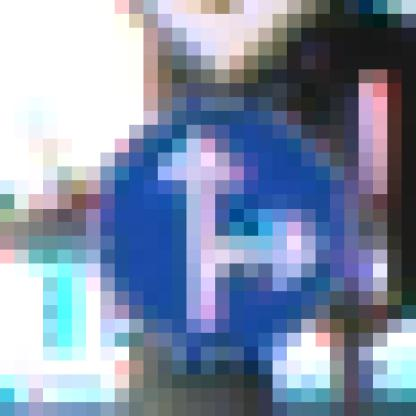Straight or Right: (87, 84, 345, 348)
